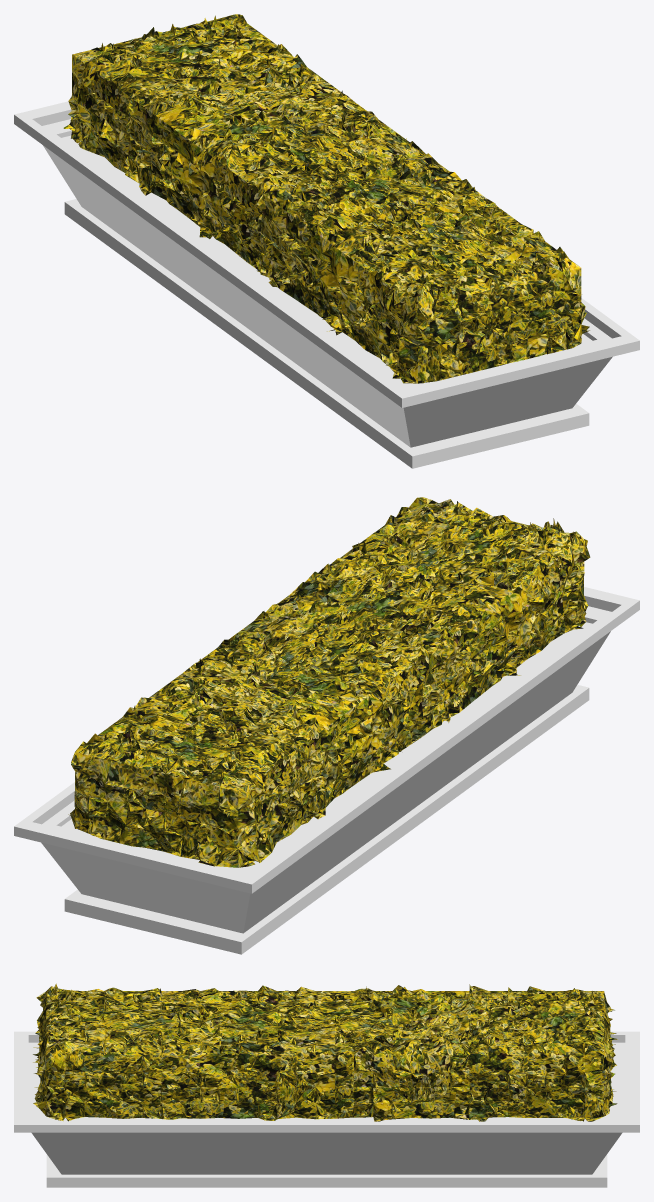
The picture shows the model from 3 angles, top to bottom: view 1: azimuth 30°, elevation 25°; view 2: azimuth 150°, elevation 25°; view 3: azimuth 270°, elevation 25°; orthographic projection. The views are drawn at different scales.
Visible parts, largest first — view 1: зелень пример, group_0.002, group_0.003, group_0.001, group_0; view 2: зелень пример, group_0.002, group_0.003, group_0.001, group_0; view 3: зелень пример, group_0.002, group_0.003, group_0.001, group_0.
Boxes of the visible parts, bbox=[...] form: зелень пример: bbox=[63, 14, 589, 383]; group_0.002: bbox=[32, 109, 621, 447]; group_0.003: bbox=[14, 101, 639, 407]; group_0.001: bbox=[64, 199, 589, 468]; group_0: bbox=[62, 135, 592, 387]; зелень пример: bbox=[68, 497, 590, 867]; group_0.002: bbox=[33, 595, 620, 933]; group_0.003: bbox=[14, 587, 639, 893]; group_0.001: bbox=[64, 685, 589, 954]; group_0: bbox=[61, 622, 592, 872]; зелень пример: bbox=[33, 983, 617, 1121]; group_0.002: bbox=[28, 1035, 625, 1174]; group_0.003: bbox=[14, 1031, 639, 1132]; group_0.001: bbox=[46, 1154, 607, 1187]; group_0: bbox=[48, 1116, 605, 1121].
Bounding box in the file's own units: 0.4368 × 1.23 × 0.3091.
2 materials, 1 textured.
